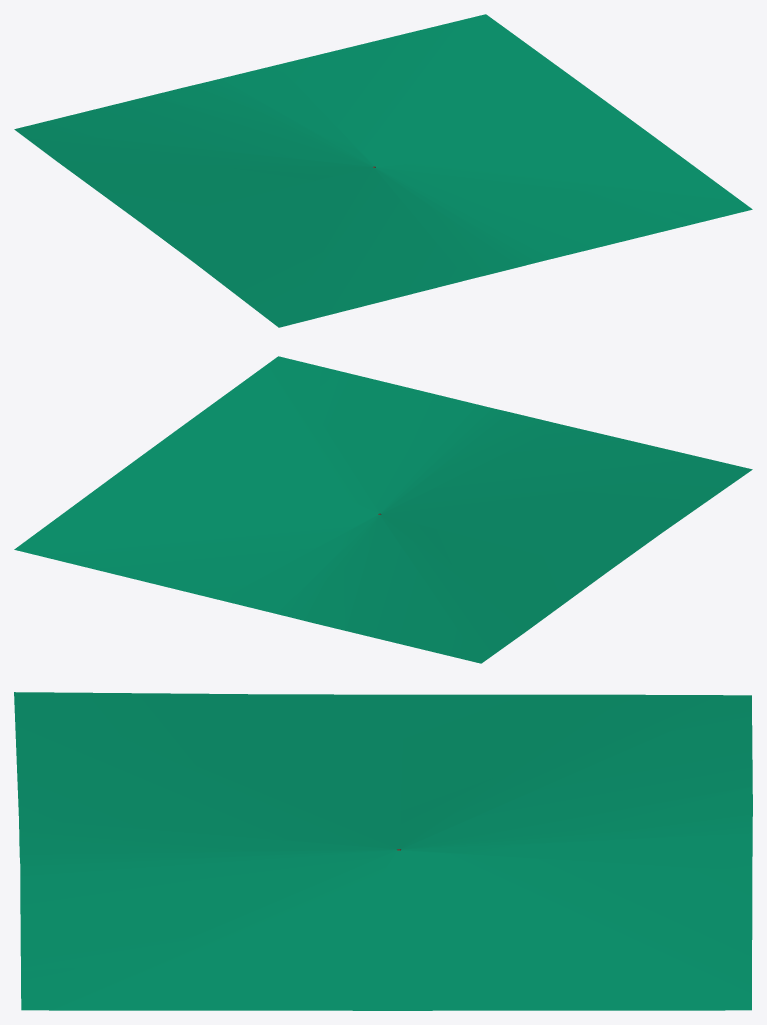
The model's file is zemlya.fbx.
3 renders of one model, top to bottom at view 1: azimuth 30°, elevation 25°; view 2: azimuth 150°, elevation 25°; view 3: azimuth 270°, elevation 25°, orthographic. The views are drawn at different scales.
Parts seen in each view (by area): view 1: Cube.001; view 2: Cube.001; view 3: Cube.001.
Boxes of the visible parts, x1=… form: Cube.001: x1=14, y1=14, x2=752, y2=327; Cube.001: x1=14, y1=356, x2=752, y2=663; Cube.001: x1=14, y1=692, x2=752, y2=1010.
Size of the model in its own units: 369247 by 610 by 361857.
1 material, 1 textured.
